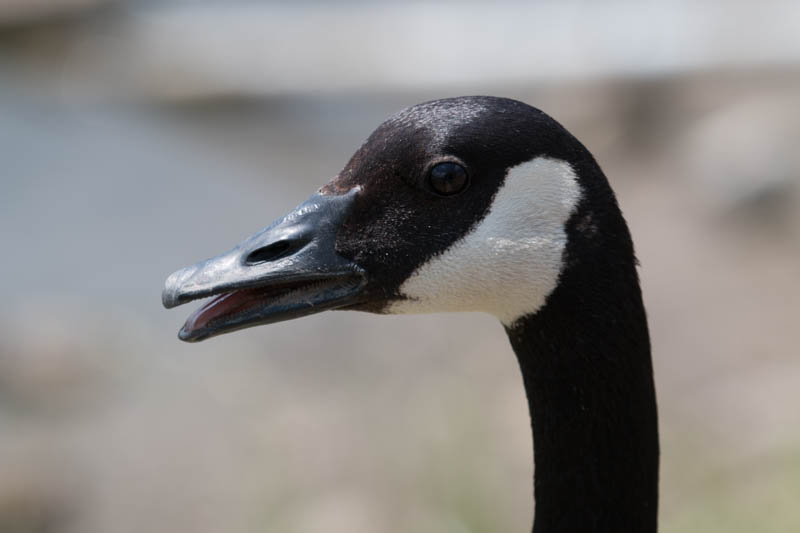goose-head: (162, 96, 637, 341)
